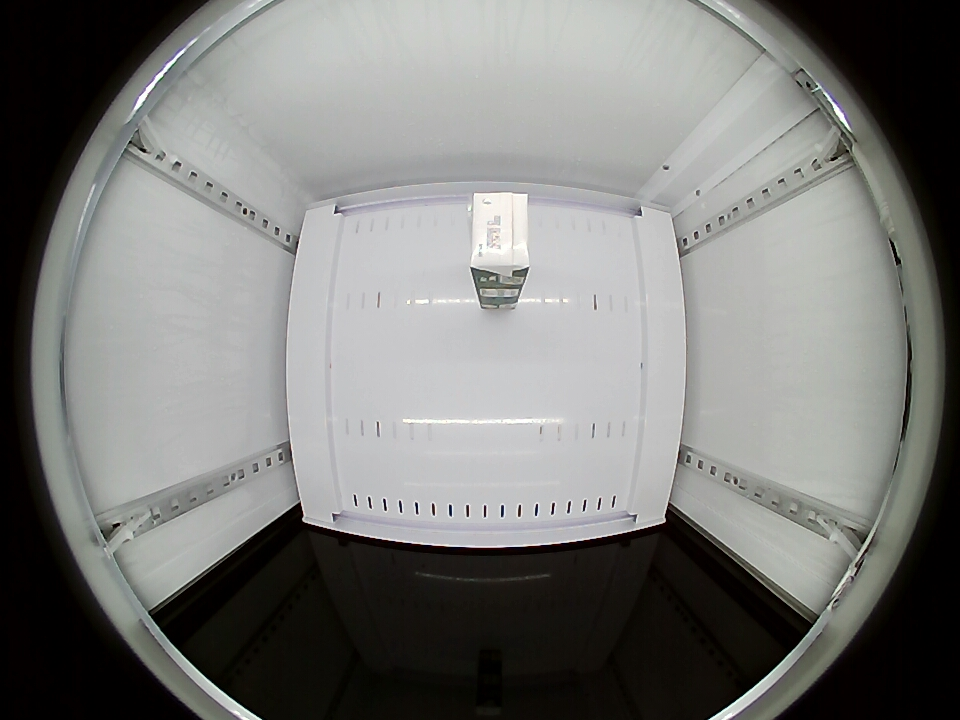jindian: (470, 192, 530, 285)
